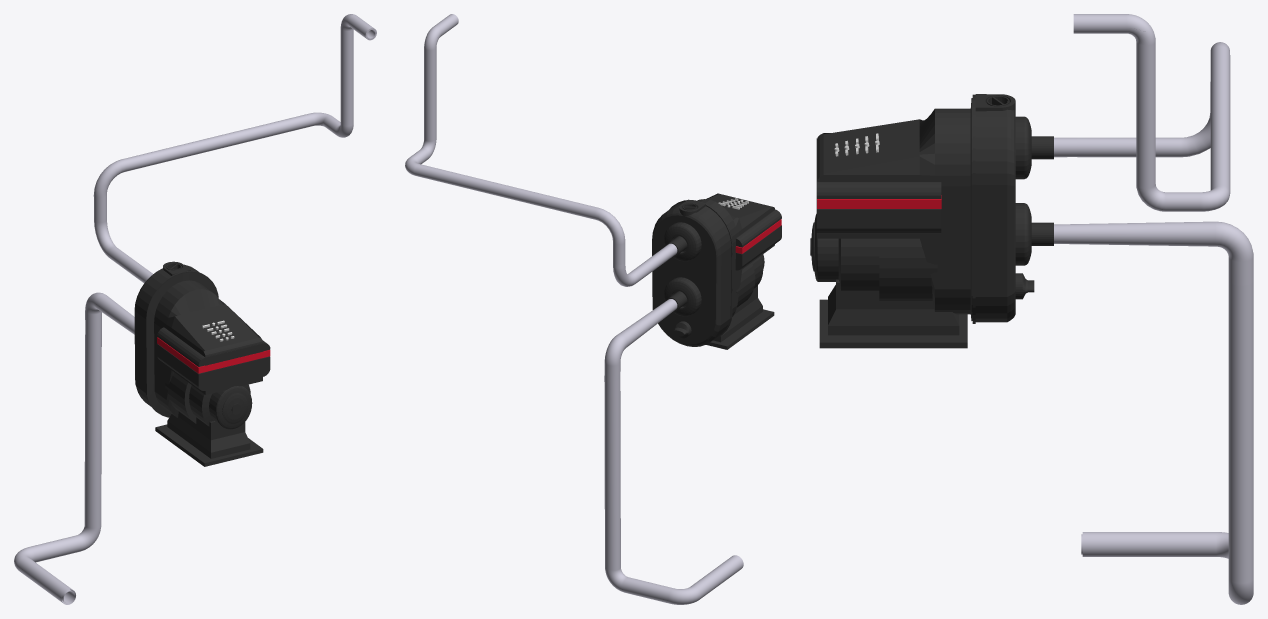
Rendered from new Nasos.fbx.
3 renders of one model, left to right at view 1: azimuth 30°, elevation 25°; view 2: azimuth 150°, elevation 25°; view 3: azimuth 270°, elevation 25°, orthographic. The views are drawn at different scales.
Visible parts, largest first — view 1: Cube, Третий-четвертый блок\Тело скру.002; view 2: Cube, Третий-четвертый блок\Тело скру.002; view 3: Cube, Третий-четвертый блок\Тело скру.002.
Boxes of the visible parts, x1,y1,x2,y2 form: Cube: (134, 261, 270, 466); Третий-четвертый блок\Тело скру.002: (14, 14, 376, 604); Cube: (652, 193, 781, 349); Третий-четвертый блок\Тело скру.002: (405, 14, 743, 604); Cube: (810, 94, 1053, 348); Третий-четвертый блок\Тело скру.002: (1054, 14, 1253, 604).
Bounding box in the file's own units: 69077 × 106908 × 56511.
